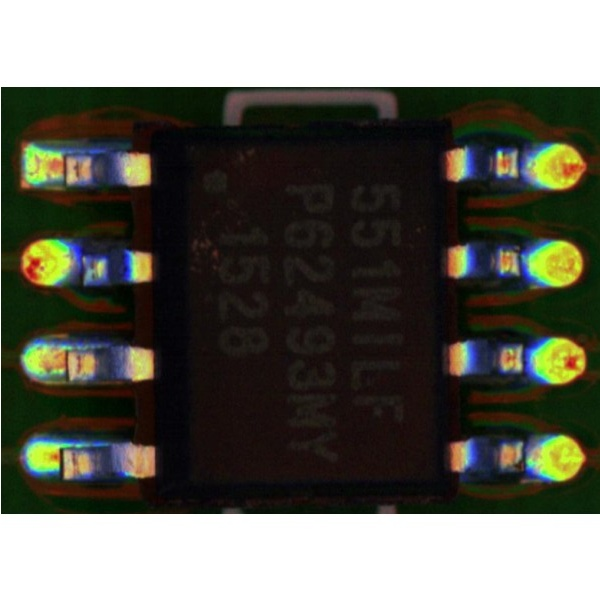Bad_podu: (53, 157, 72, 182), (58, 350, 75, 376), (49, 450, 69, 472)
Bad_qiaojiao: (64, 439, 114, 449), (61, 148, 124, 155), (64, 343, 111, 348)
